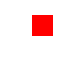square: (32, 15, 52, 35)
